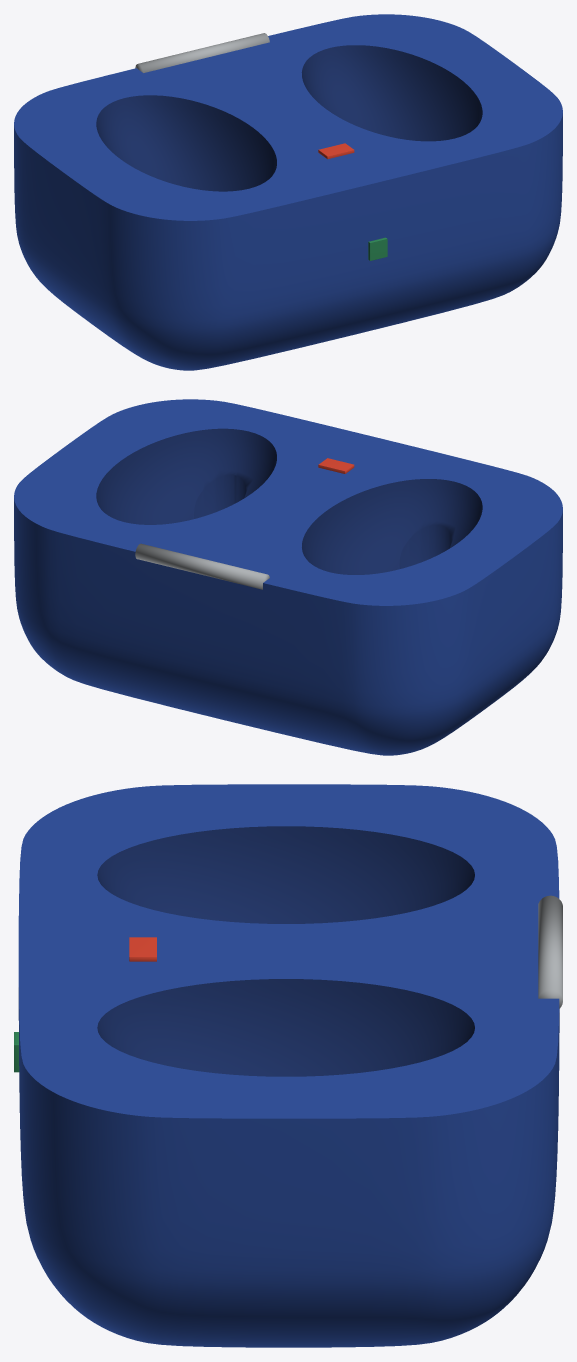
The model's file is case_body.glb.
3 renders of one model, top to bottom at view 1: azimuth 30°, elevation 25°; view 2: azimuth 150°, elevation 25°; view 3: azimuth 270°, elevation 25°, orthographic. The views are drawn at different scales.
Parts seen in each view (by area): view 1: Case body, Hinge; view 2: Case body, Hinge; view 3: Case body, Hinge, Hall sensor.
Part boxes in pixels (bbox=[...]): Case body: bbox=[14, 14, 562, 370]; Hinge: bbox=[135, 33, 269, 72]; Case body: bbox=[14, 399, 562, 755]; Hinge: bbox=[135, 543, 269, 589]; Case body: bbox=[18, 784, 559, 1347]; Hinge: bbox=[538, 895, 562, 1008]; Hall sensor: bbox=[129, 937, 156, 961].
Size of the model in its own units: 5.69 by 2.32 by 3.95.
